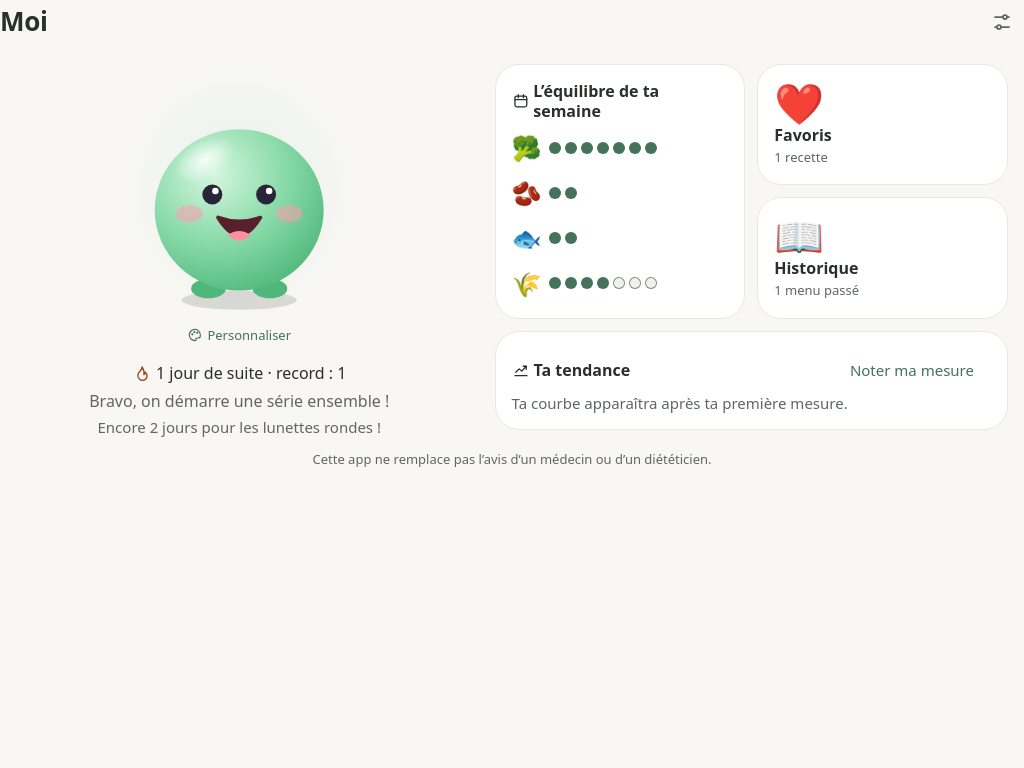
Scenario: <MePage /> › liste favoris et historique des menus
Click the button "❤️ Favoris 1 recette".
click(883, 125)  # box left=757, top=64, right=1008, bottom=186
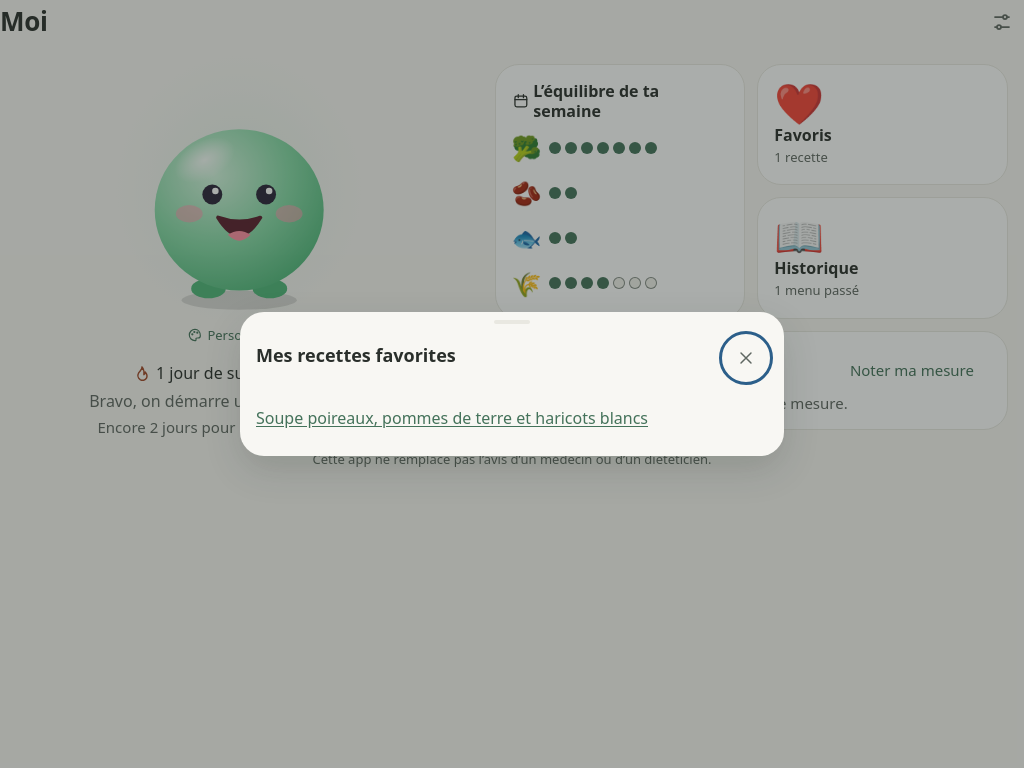
Check: the link "Soupe poireaux, pommes de terre et haricots blancs" is shown, box left=256, top=407, right=648, bottom=429
Click the button named "Fermer".
click(746, 358)  # box left=724, top=336, right=768, bottom=380
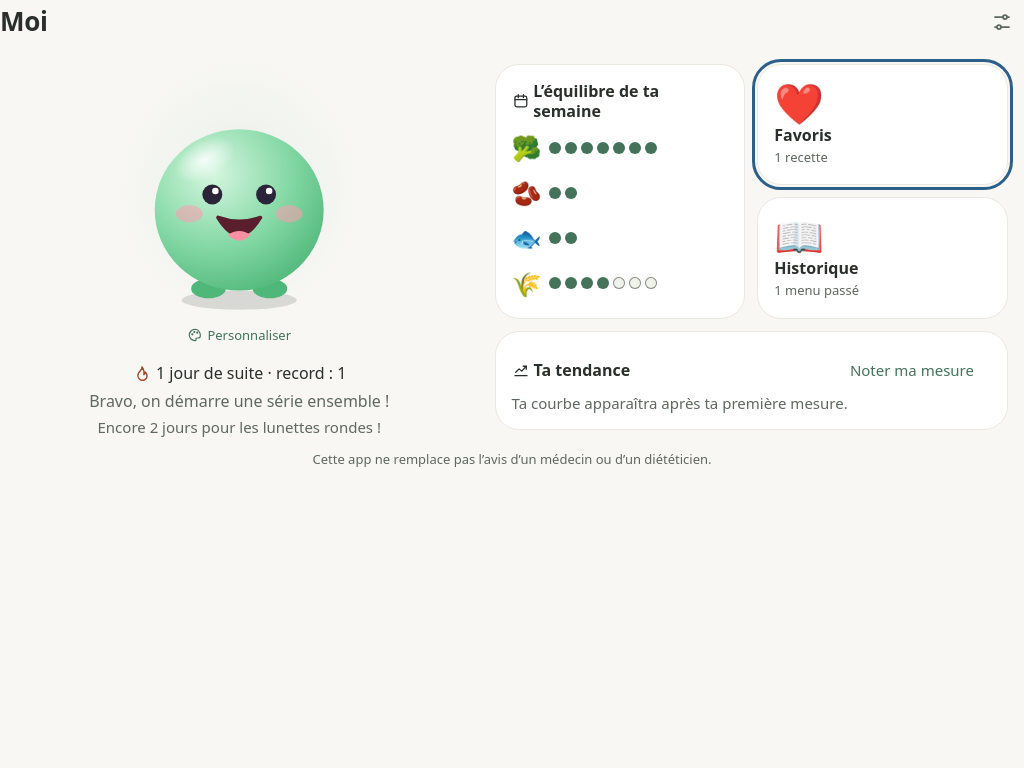
Click the button "📖 Historique 1 menu passé".
click(883, 258)  # box left=757, top=197, right=1008, bottom=319
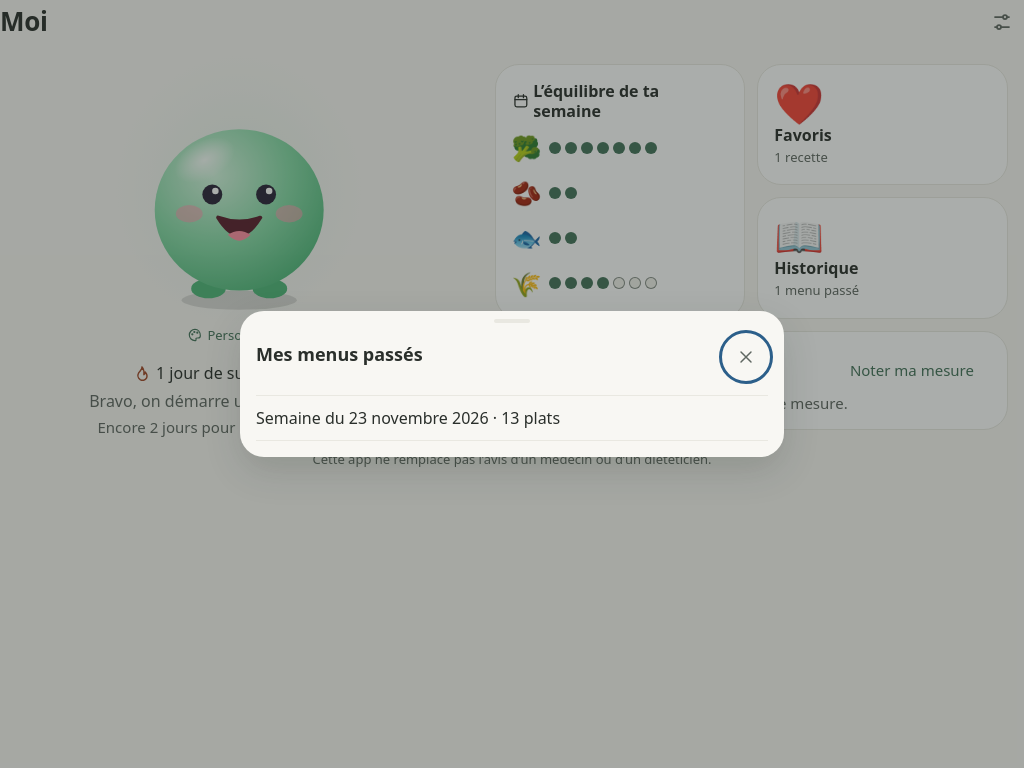
Click the heading "Semaine du 23 novembre 2026 · 13 plats".
click(408, 418)  # box left=256, top=407, right=560, bottom=429
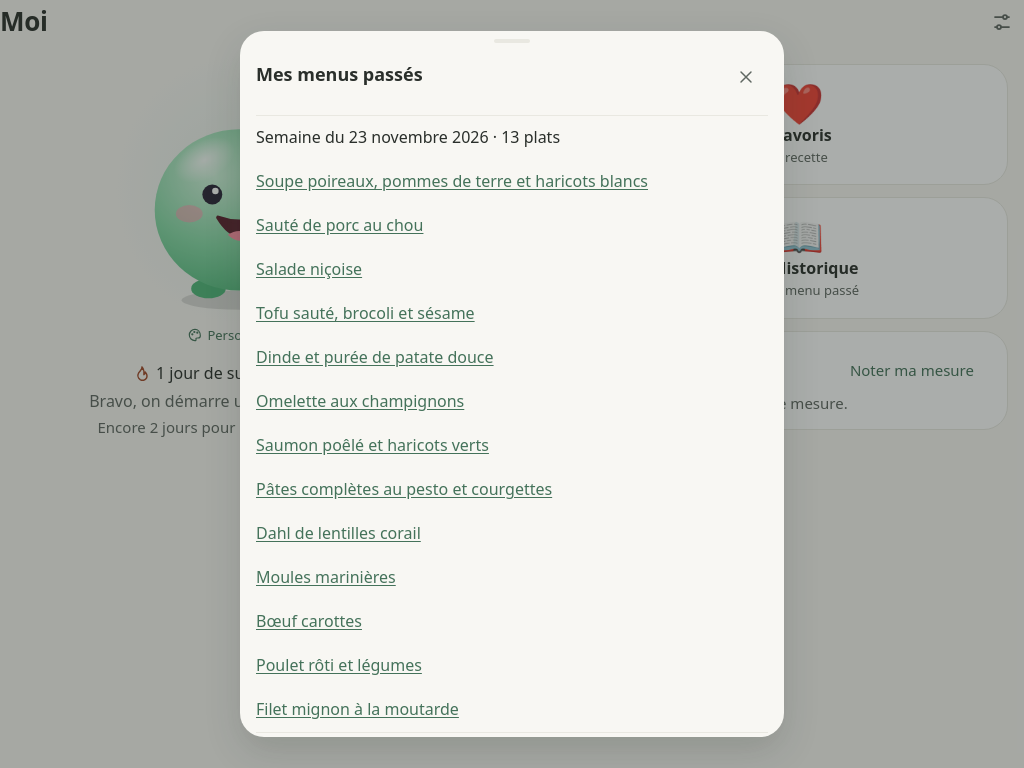
Check: the link "Soupe poireaux, pommes de terre et haricots blancs" is shown, box left=256, top=170, right=648, bottom=192
